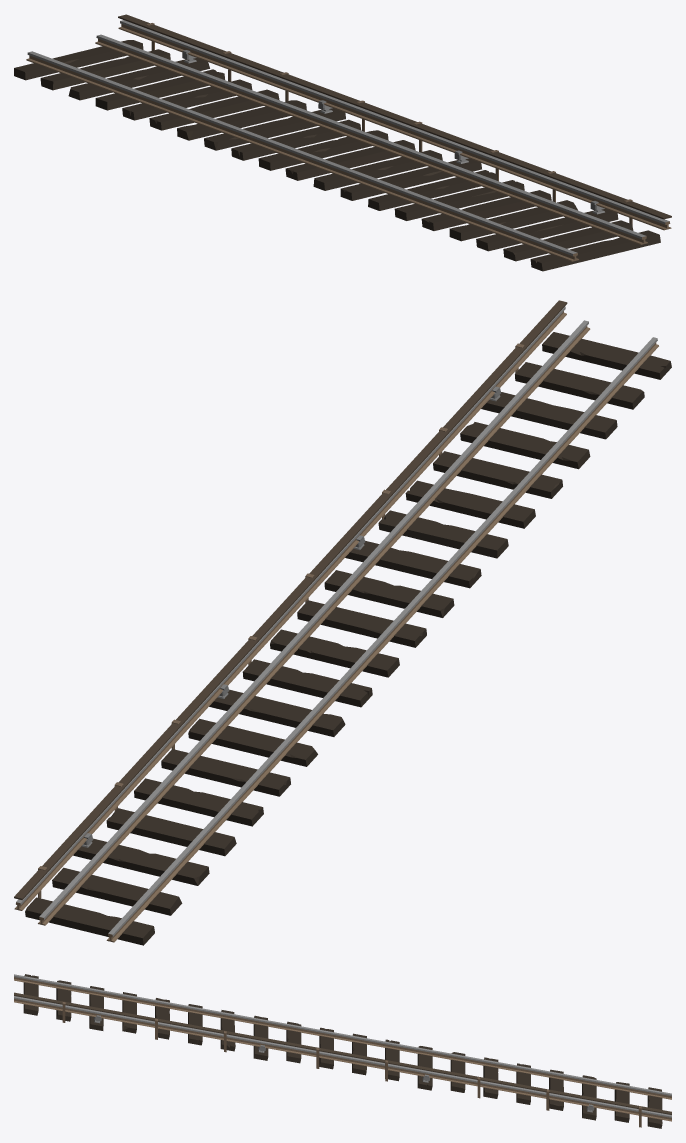
Rendered from SW_ENV_TrackRise_20m.fbx.
3 views of the same model, one above another, from view 1: azimuth 30°, elevation 25°; view 2: azimuth 150°, elevation 25°; view 3: azimuth 270°, elevation 25° (orthographic). The views are drawn at different scales.
Visible parts, largest first — view 1: SW_ENV_TrackRise_20m; view 2: SW_ENV_TrackRise_20m; view 3: SW_ENV_TrackRise_20m.
Boxes of the visible parts, left/top/right/bottom form: SW_ENV_TrackRise_20m: left=14, top=14, right=671, bottom=271; SW_ENV_TrackRise_20m: left=14, top=300, right=671, bottom=945; SW_ENV_TrackRise_20m: left=14, top=974, right=671, bottom=1128.
Size of the model in its own units: 276 by 452 by 2000.
